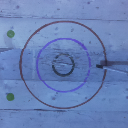Axe Tip: (99, 64, 108, 68)
